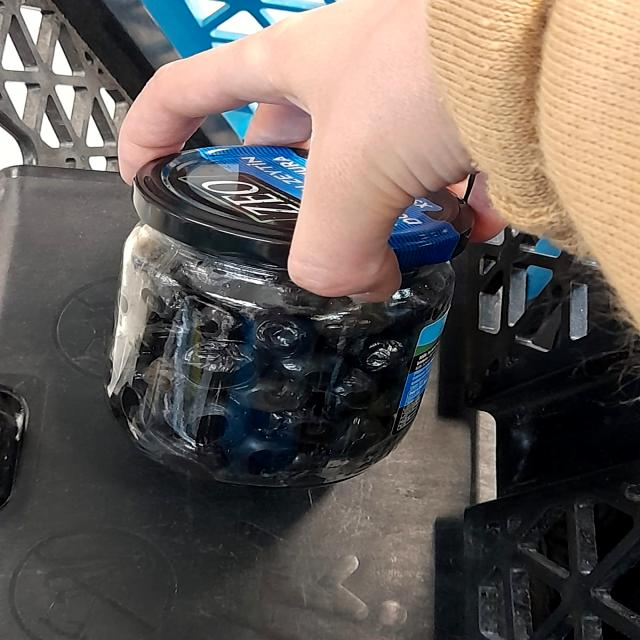olive: (81, 168, 496, 508), (164, 310, 396, 463)
